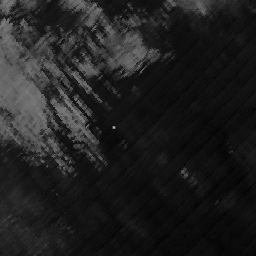Target: (110, 124, 117, 131)
